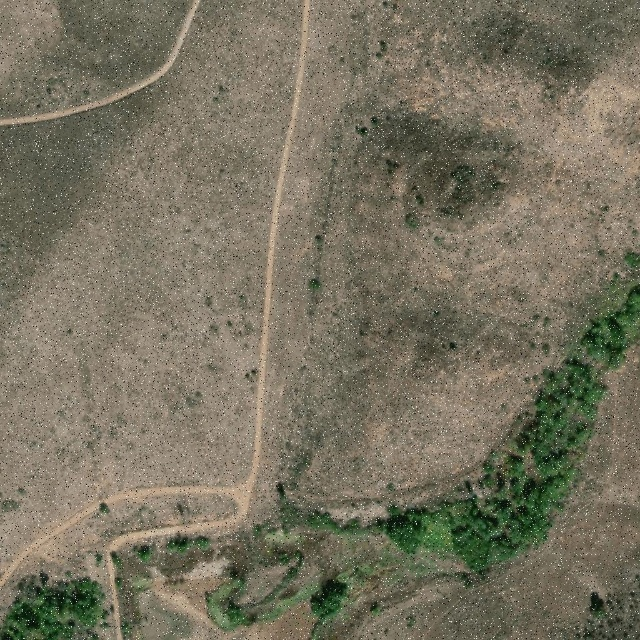vegetation: (299, 276, 640, 568), (0, 571, 104, 640), (311, 580, 346, 626), (222, 602, 248, 630)
